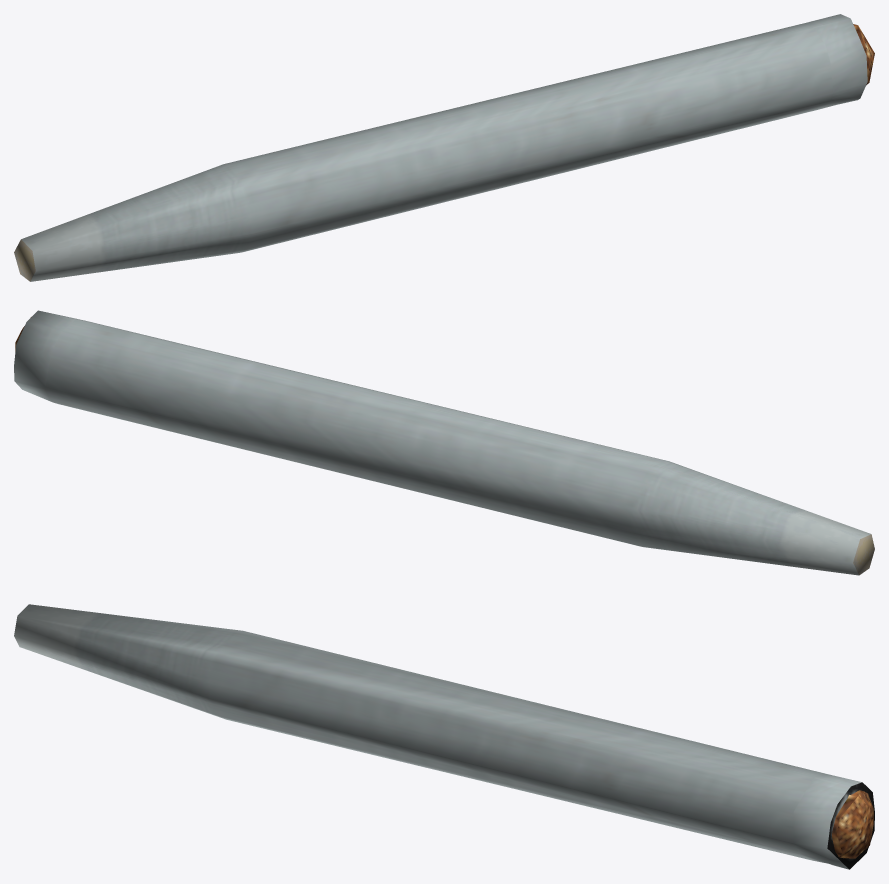
The model's file is Spliff.fbx.
The picture shows the model from 3 angles, top to bottom: view 1: azimuth 30°, elevation 25°; view 2: azimuth 150°, elevation 25°; view 3: azimuth 330°, elevation 25°; orthographic projection.
Visible parts, largest first — view 1: ember; view 2: ember; view 3: ember.
Part boxes in pixels (x1,y1,x2,y2): ember: (14,14,874,281); ember: (14,310,874,575); ember: (14,604,874,869).
Size of the model in its own units: 0.0961 by 0.00878 by 0.00881.
